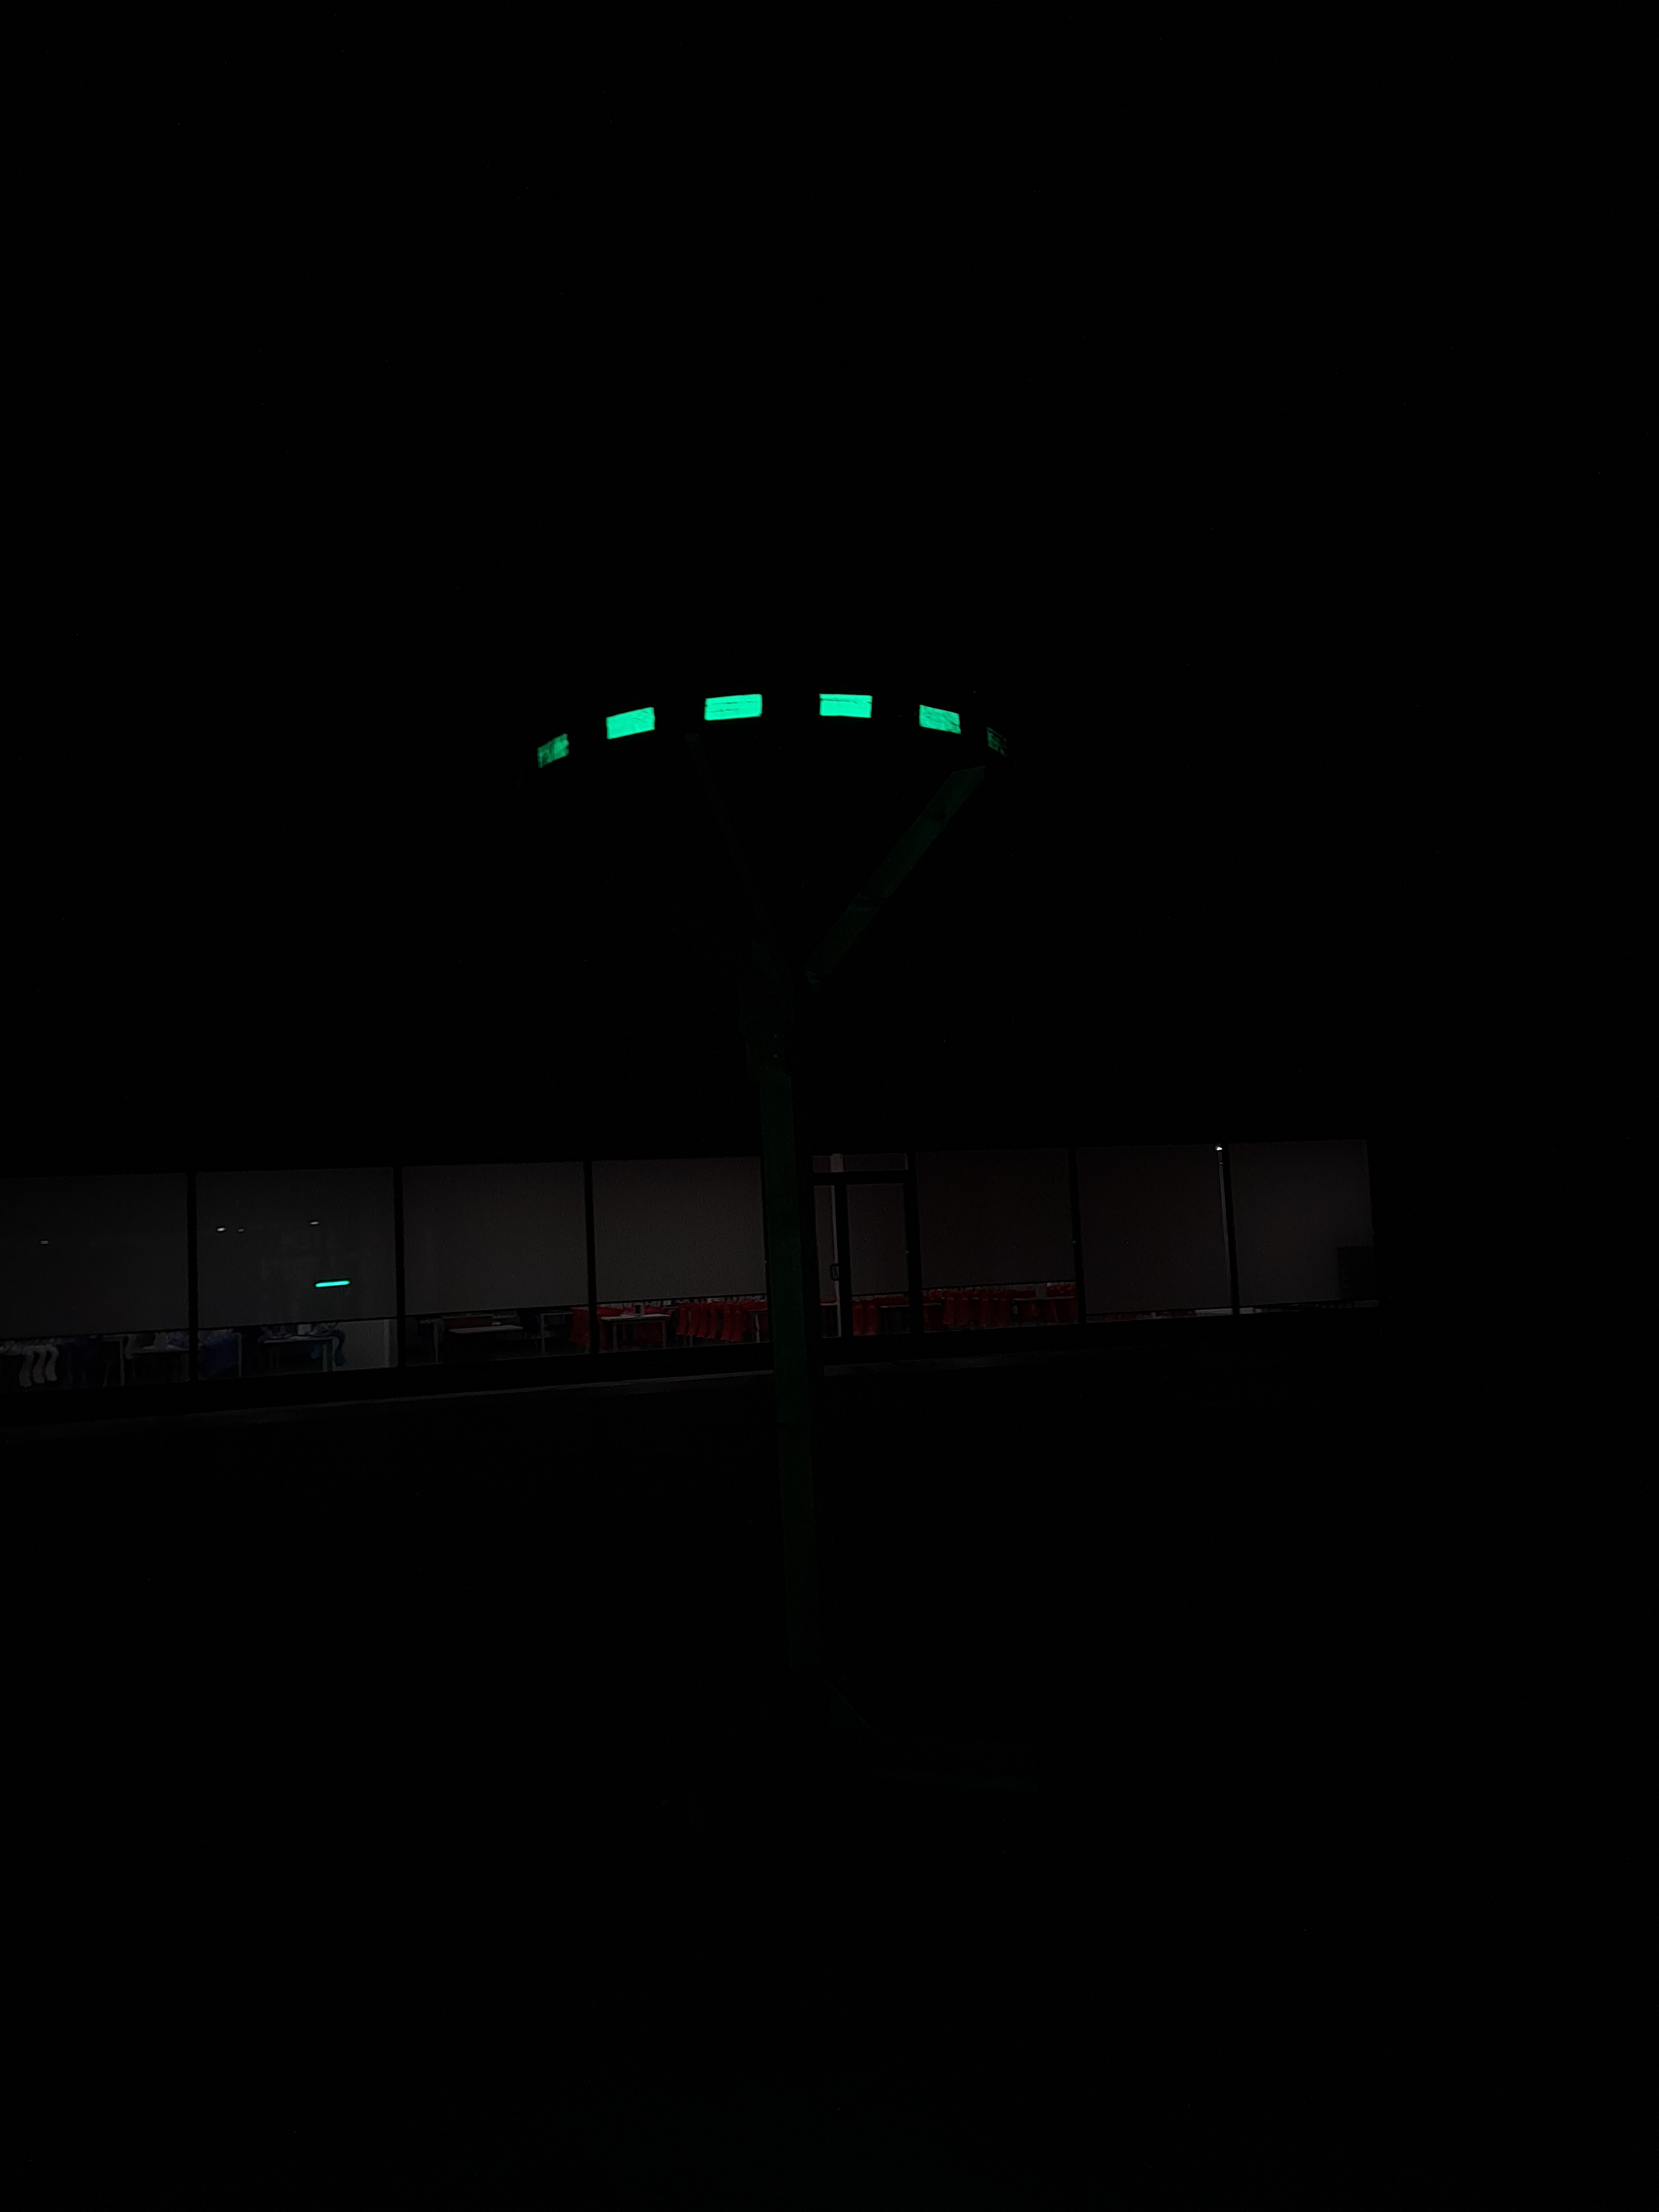hoop: (514, 691, 971, 775)
